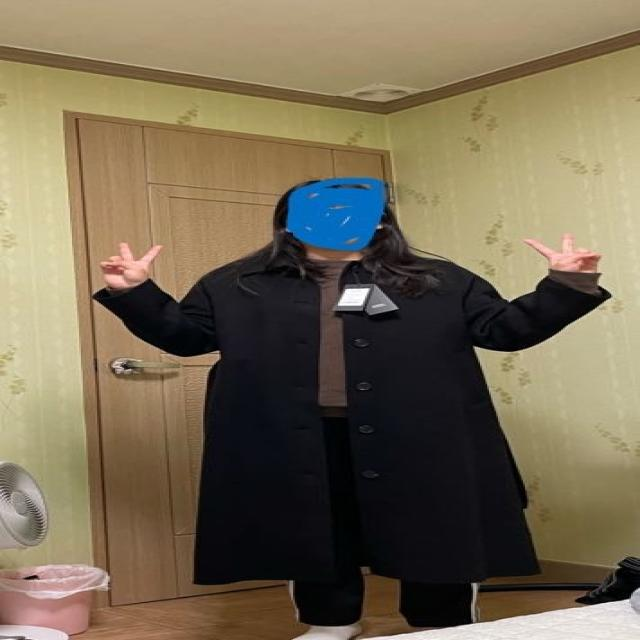coat: (90, 245, 611, 584)
slacks: (286, 414, 474, 628)
